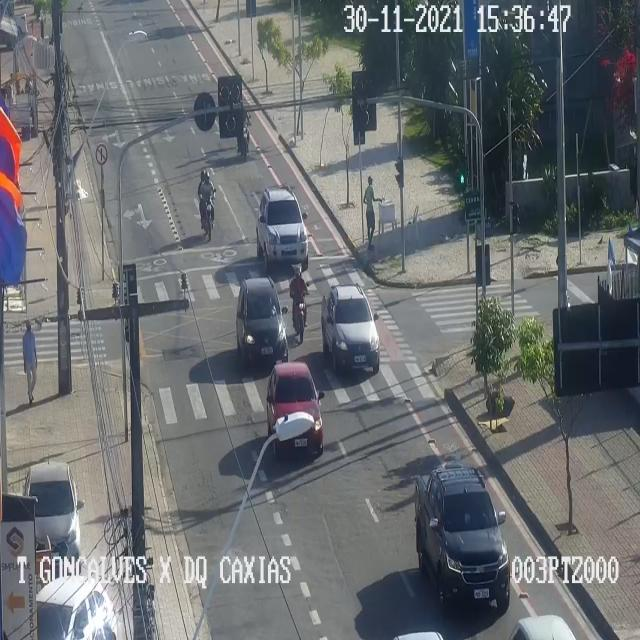Car: (416, 460, 510, 617), (24, 461, 84, 572), (268, 359, 326, 461), (321, 284, 381, 376), (37, 578, 117, 639), (236, 274, 290, 364), (256, 186, 310, 272)
Motorcycle: (290, 268, 310, 344), (198, 167, 216, 239), (236, 105, 260, 159)
